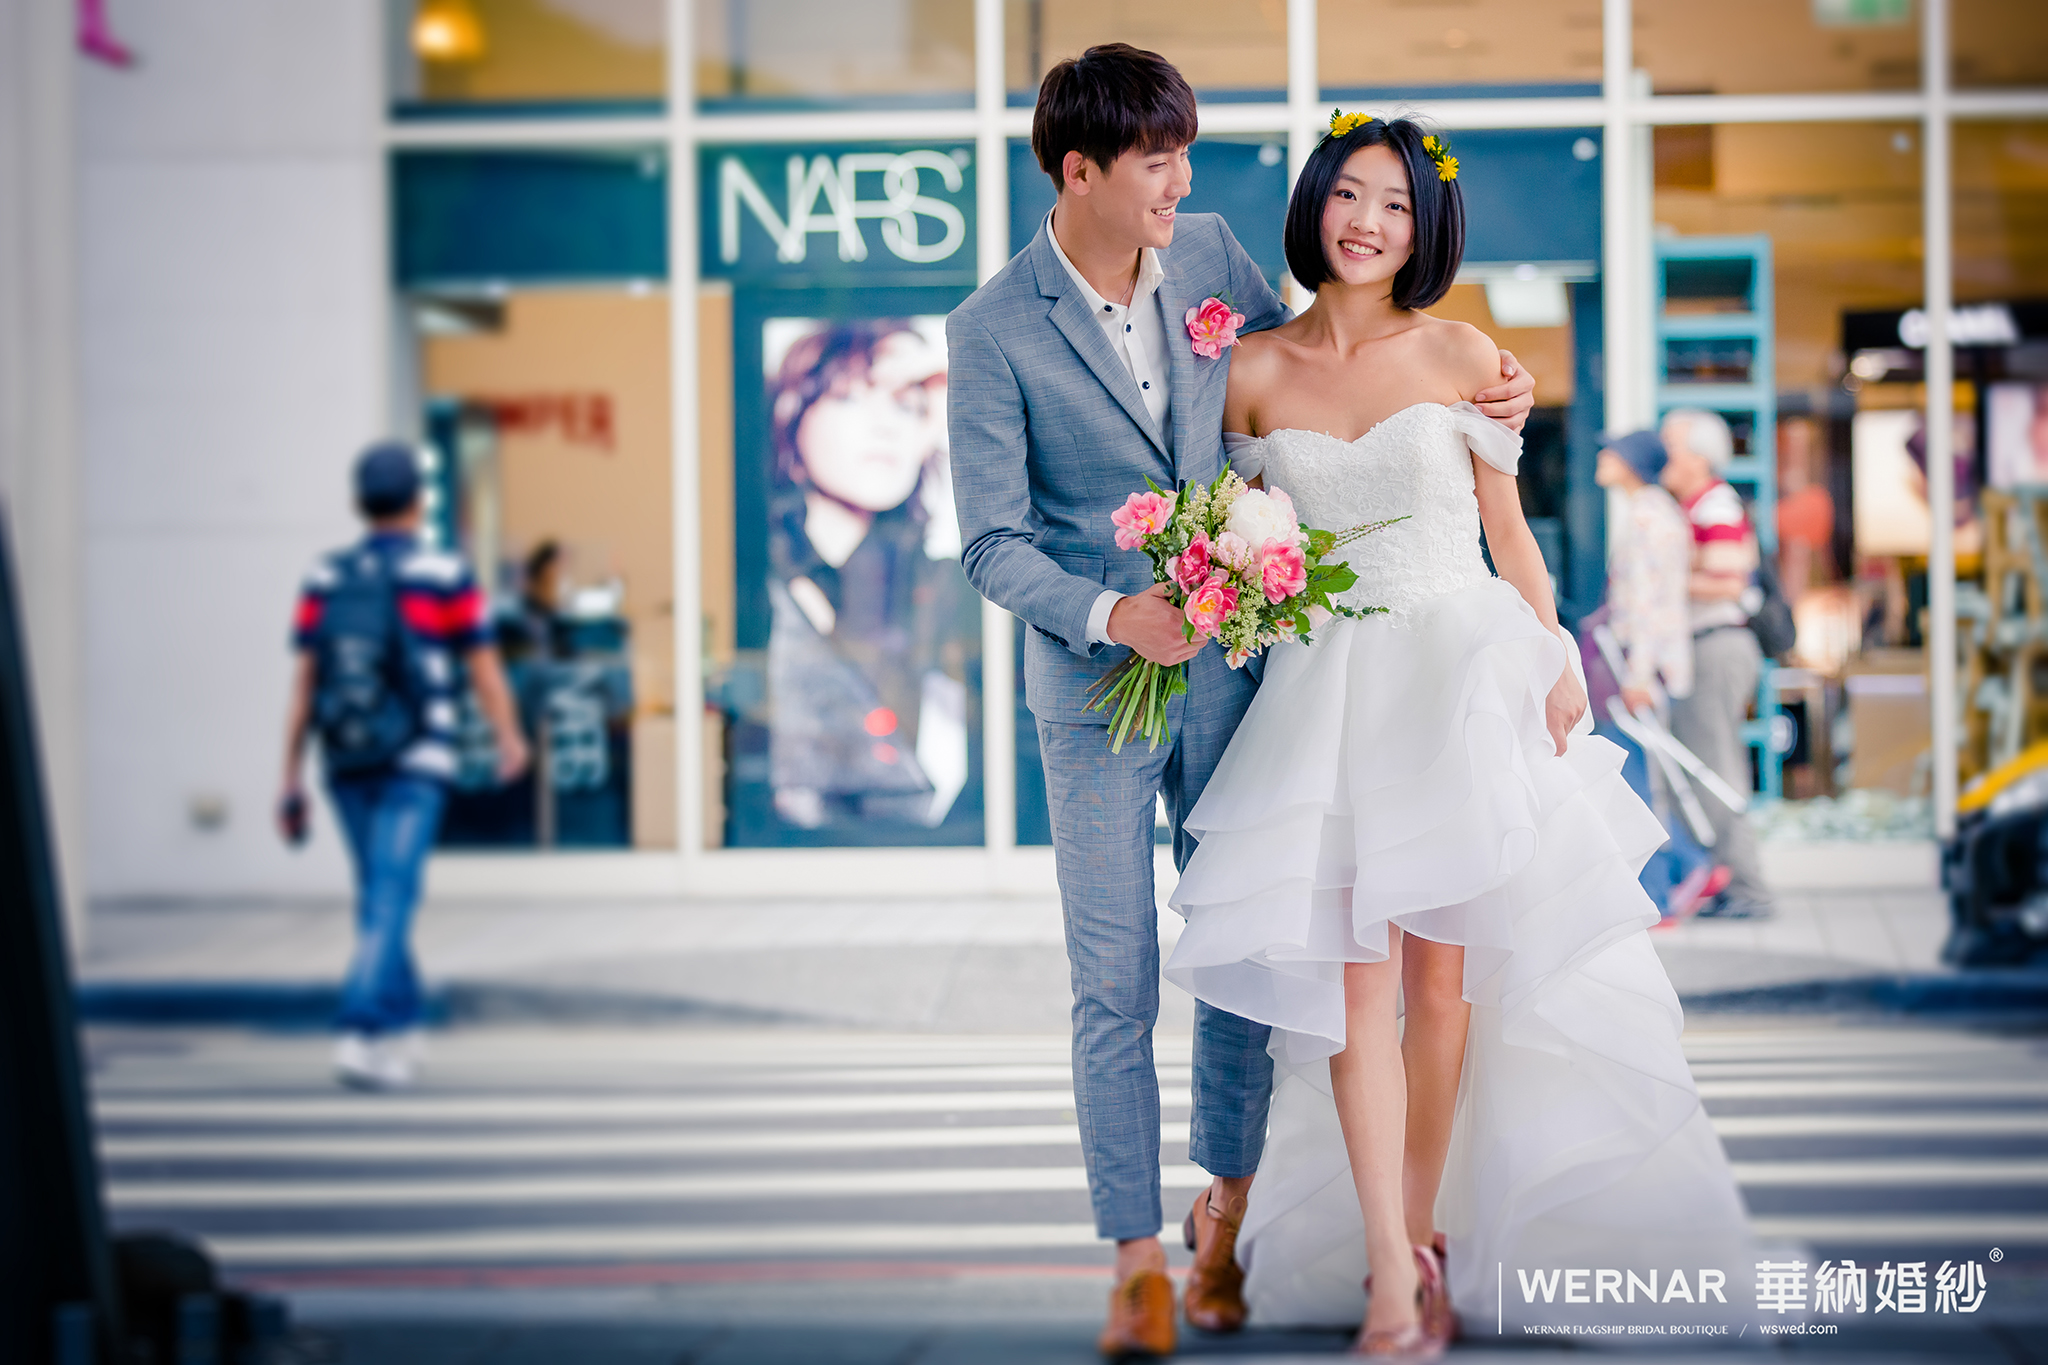people: (960, 33, 1281, 1365), (1254, 110, 1549, 1360), (287, 448, 525, 1074), (1654, 377, 1799, 901), (1599, 433, 1696, 927)
